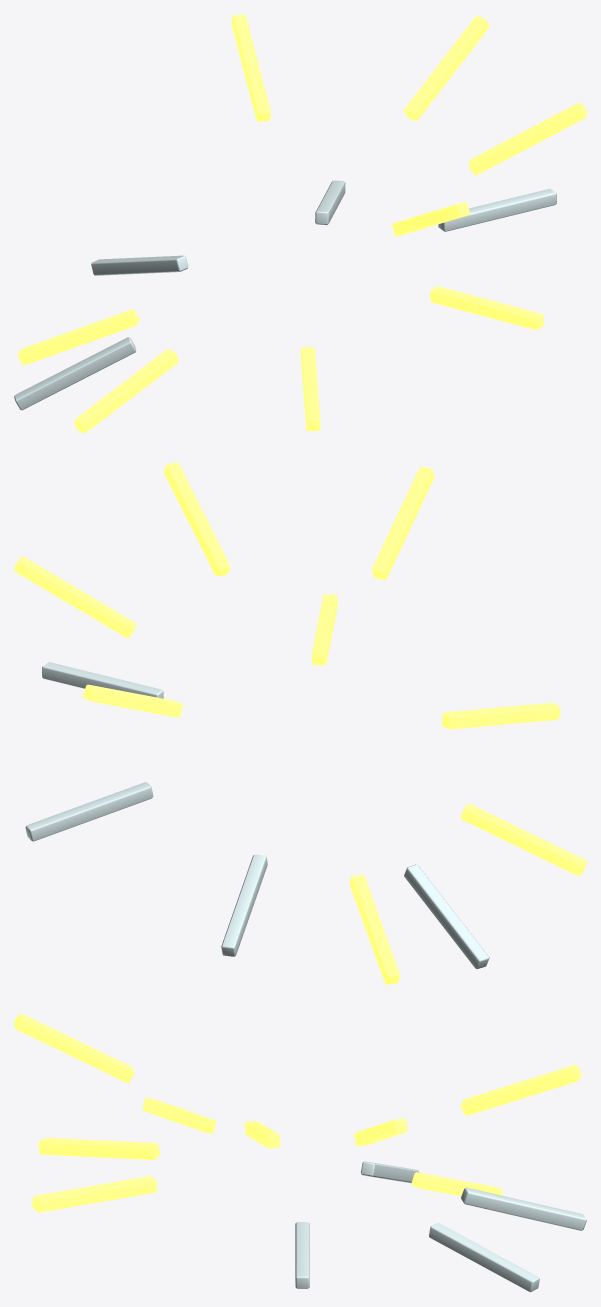
The model's file is VXFX_INTERCEPT_v001.fbx.
3 views of the same model, one above another, from view 1: azimuth 30°, elevation 25°; view 2: azimuth 150°, elevation 25°; view 3: azimuth 270°, elevation 25° (orthographic). The views are drawn at different scales.
Visible parts, largest first — view 1: Radial impact shard.009, Radial impact shard.005, Radial impact shard.008, Radial impact shard.004, Radial impact shard.001, Radial impact shard.010, Radial impact shard, Radial impact shard.011, Radial impact shard.006, Radial impact shard.007, Radial impact shard.002, Radial impact shard.003; view 2: Radial impact shard.004, Radial impact shard.008, Radial impact shard.003, Radial impact shard.009, Radial impact shard.005, Radial impact shard.002, Radial impact shard.007, Radial impact shard.001, Radial impact shard.006, Radial impact shard, Radial impact shard.011, Radial impact shard.010; view 3: Radial impact shard.002, Radial impact shard.010, Radial impact shard.006, Radial impact shard.003, Radial impact shard.007, Radial impact shard.011, Radial impact shard.005, Radial impact shard.001, Radial impact shard, Radial impact shard.008, Radial impact shard.009, Radial impact shard.004.
Boxes of the visible parts, x1,y1,x2,y2 form: Radial impact shard.009: (14, 337, 136, 410); Radial impact shard.005: (468, 102, 586, 175); Radial impact shard.008: (404, 16, 489, 120); Radial impact shard.004: (74, 349, 178, 433); Radial impact shard.001: (17, 309, 139, 365); Radial impact shard.010: (430, 286, 543, 330); Radial impact shard: (438, 188, 556, 231); Radial impact shard.011: (231, 14, 270, 121); Radial impact shard.006: (91, 255, 188, 275); Radial impact shard.007: (301, 347, 320, 431); Radial impact shard.002: (392, 202, 469, 236); Radial impact shard.003: (315, 180, 345, 225); Radial impact shard.004: (460, 803, 586, 875); Radial impact shard.008: (14, 556, 136, 637); Radial impact shard.003: (25, 782, 153, 841); Radial impact shard.009: (404, 864, 489, 968); Radial impact shard.005: (163, 462, 230, 576); Radial impact shard.002: (371, 466, 434, 579); Radial impact shard.007: (441, 702, 560, 729); Radial impact shard.001: (349, 874, 399, 984); Radial impact shard.006: (221, 854, 267, 956); Radial impact shard: (42, 662, 163, 698); Radial impact shard.011: (83, 684, 183, 717); Radial impact shard.010: (312, 594, 337, 665); Radial impact shard.002: (14, 1013, 134, 1082); Radial impact shard.010: (32, 1176, 156, 1212); Radial impact shard.006: (461, 1187, 586, 1230); Radial impact shard.003: (429, 1222, 539, 1292); Radial impact shard.007: (38, 1137, 160, 1159); Radial impact shard.011: (460, 1064, 581, 1115); Radial impact shard.005: (142, 1097, 216, 1133); Radial impact shard.001: (411, 1172, 502, 1196); Radial impact shard: (295, 1222, 309, 1288); Radial impact shard.008: (354, 1118, 407, 1146); Radial impact shard.009: (360, 1161, 419, 1183); Radial impact shard.004: (245, 1121, 280, 1148).
Size of the model in its own units: 33.19 by 18.49 by 32.5.
